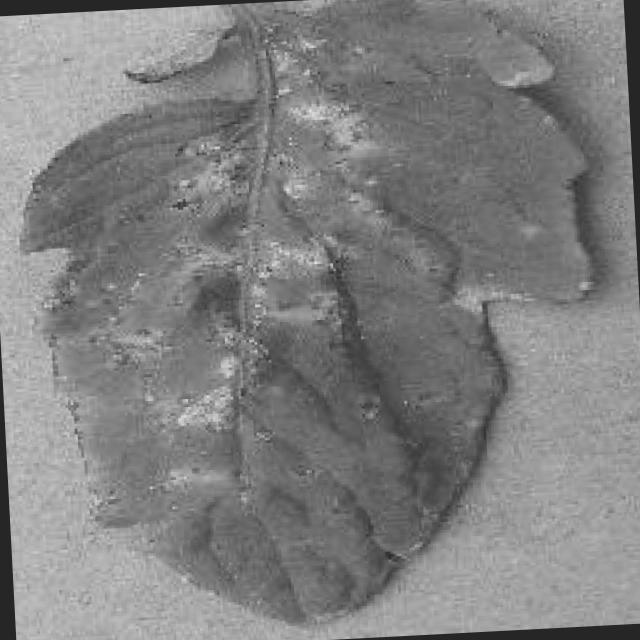bacterial spot: (18, 0, 591, 625)
